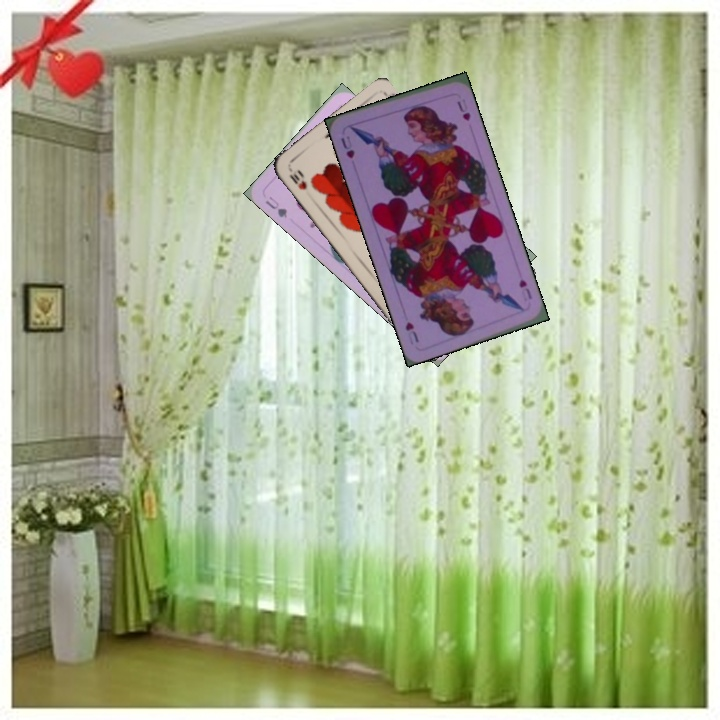GU: (261, 192, 290, 221)
H10: (285, 169, 310, 192)
HU: (514, 275, 535, 304), (337, 132, 357, 161)
